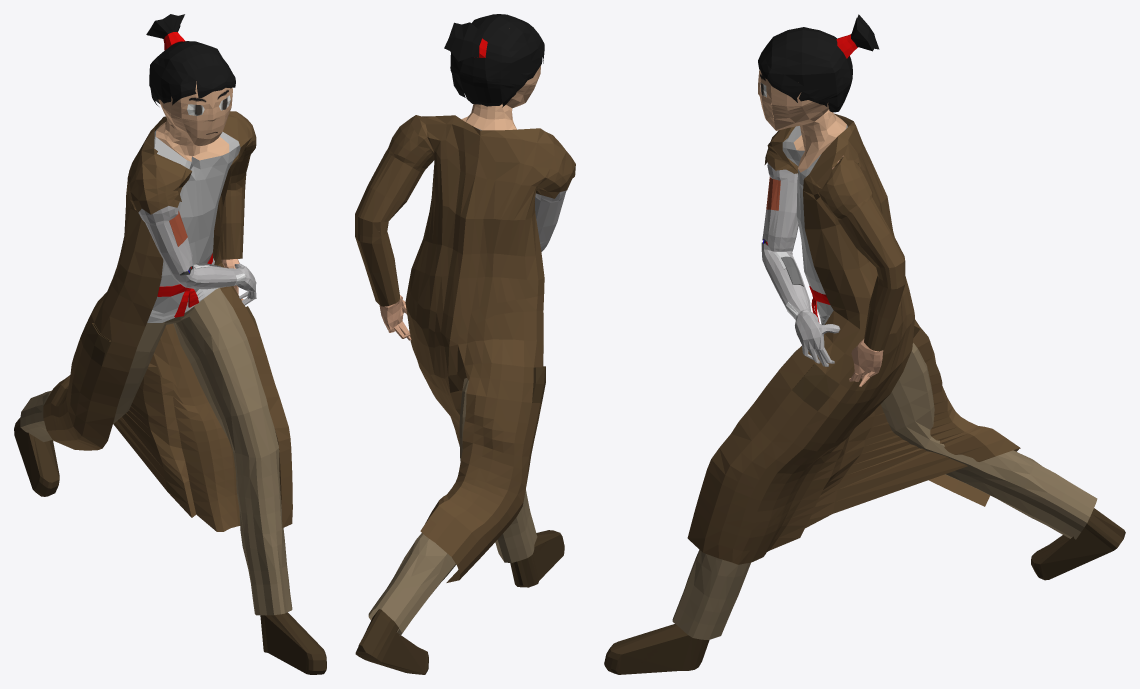
Rendered from One_RF_000012.obj.
The picture shows the model from 3 angles, left to right: view 1: azimuth 30°, elevation 25°; view 2: azimuth 150°, elevation 25°; view 3: azimuth 270°, elevation 25°; orthographic projection. The views are drawn at different scales.
Visible parts, largest first — view 1: Hair_Cube.004; view 2: Hair_Cube.004; view 3: Hair_Cube.004.
Part boxes in pixels (box(x1,y1,x2,y2)): Hair_Cube.004: box(14, 14, 326, 674); Hair_Cube.004: box(355, 14, 575, 674); Hair_Cube.004: box(604, 14, 1125, 674).
Bounding box in the file's own units: 1.1 × 3.76 × 2.81.
